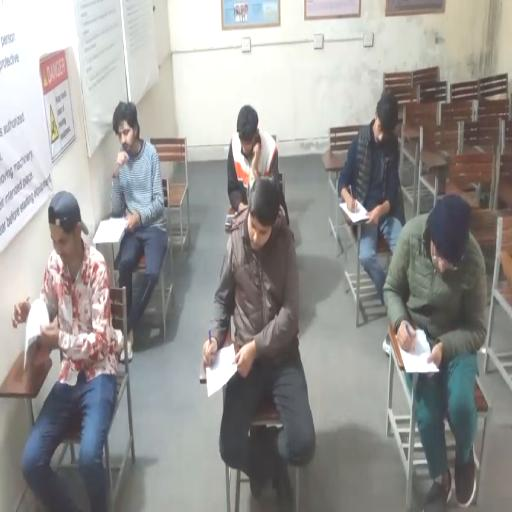paper: (205, 343, 238, 396), (24, 297, 50, 346), (92, 215, 128, 244), (340, 200, 370, 224), (412, 327, 430, 357)
